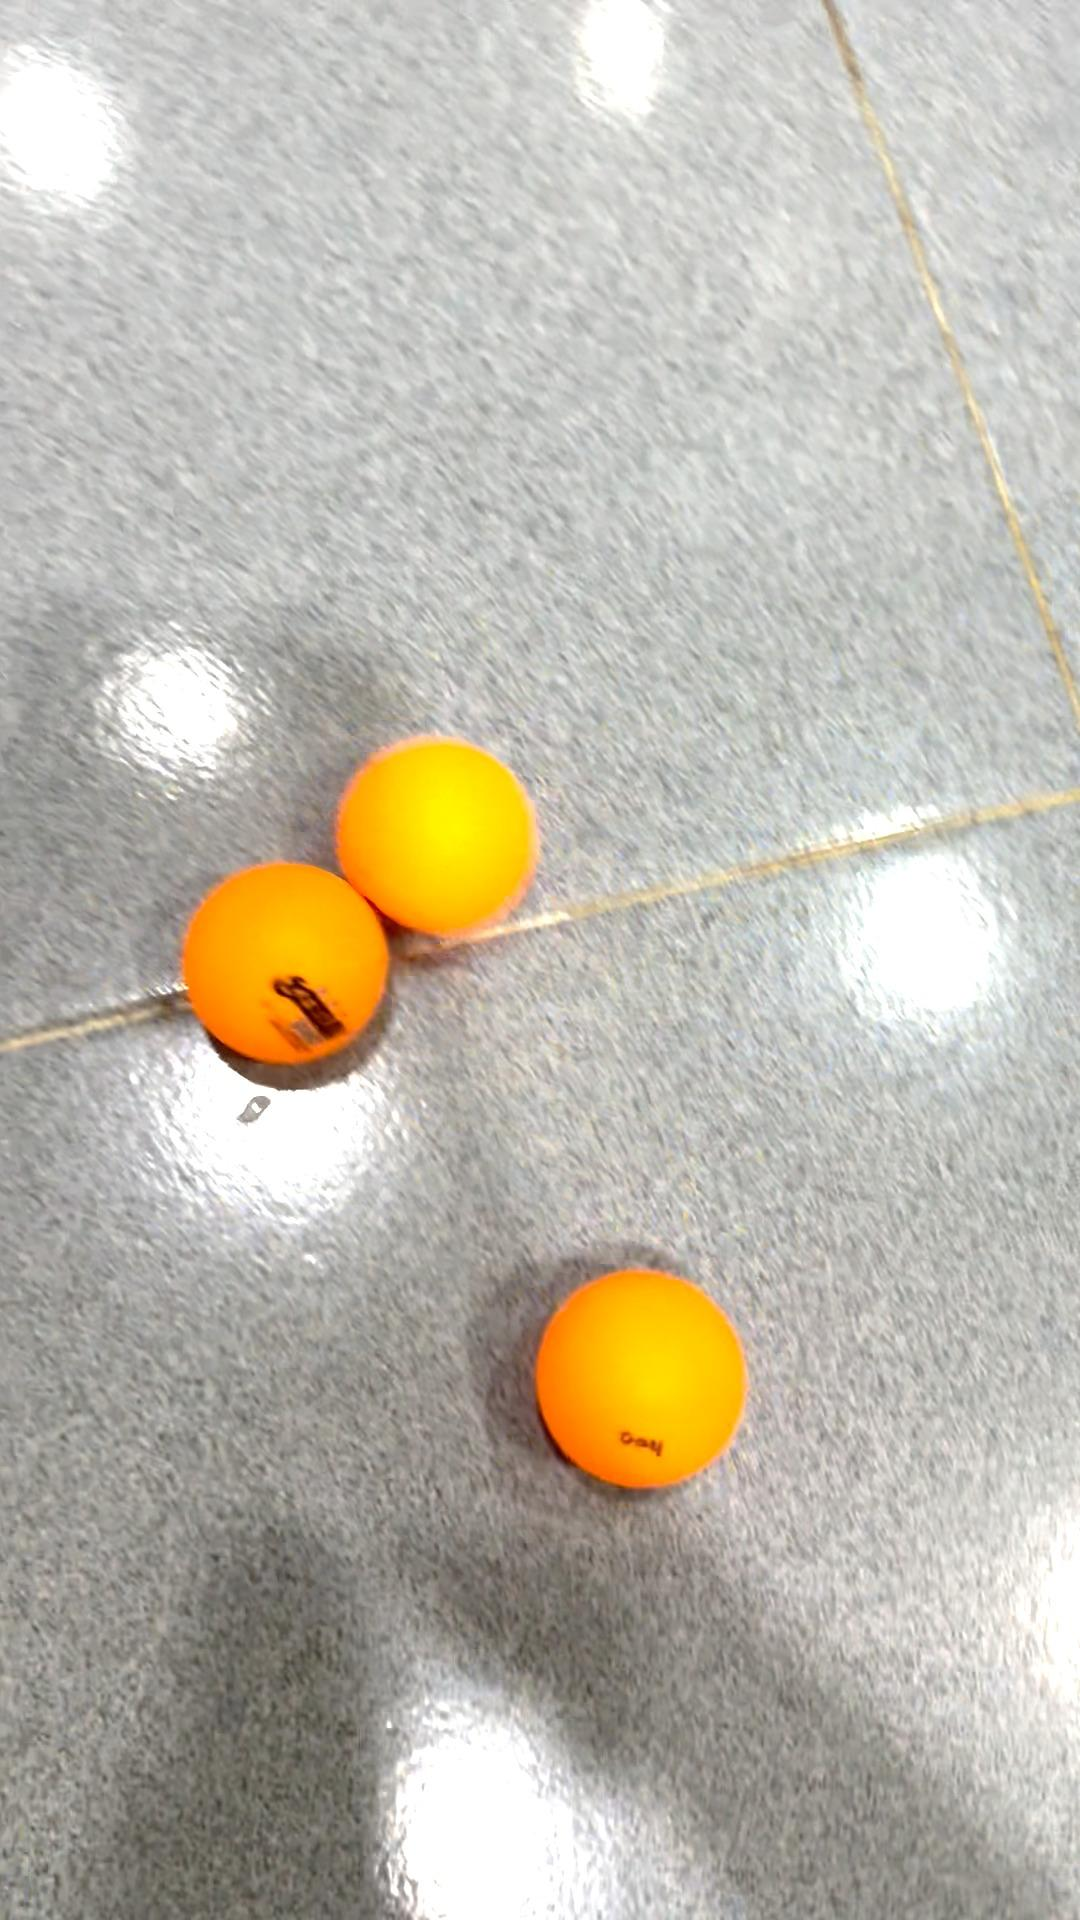oball: (527, 1261, 756, 1502), (334, 723, 549, 945), (178, 865, 397, 1072)
